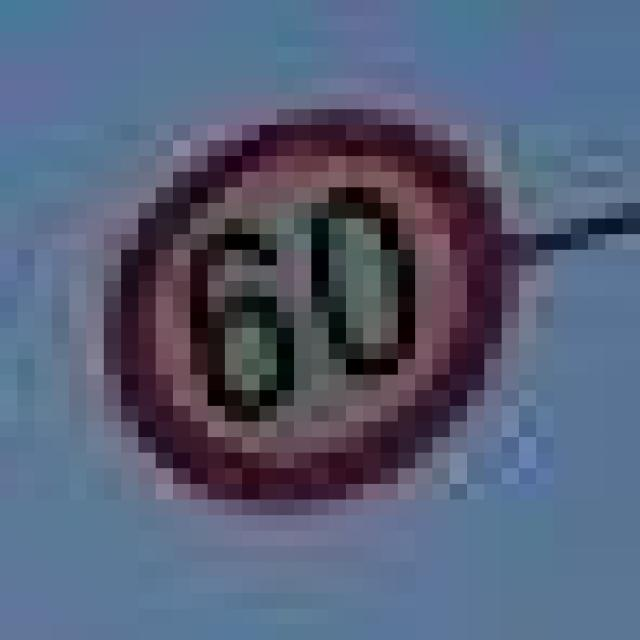speed_limit_60: (86, 93, 502, 500)
